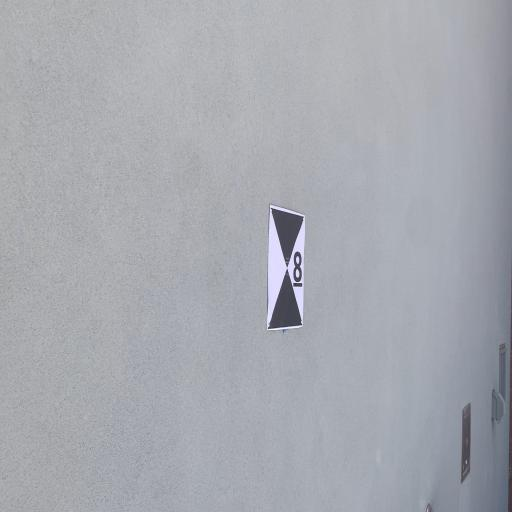target8: (266, 203, 306, 330)
